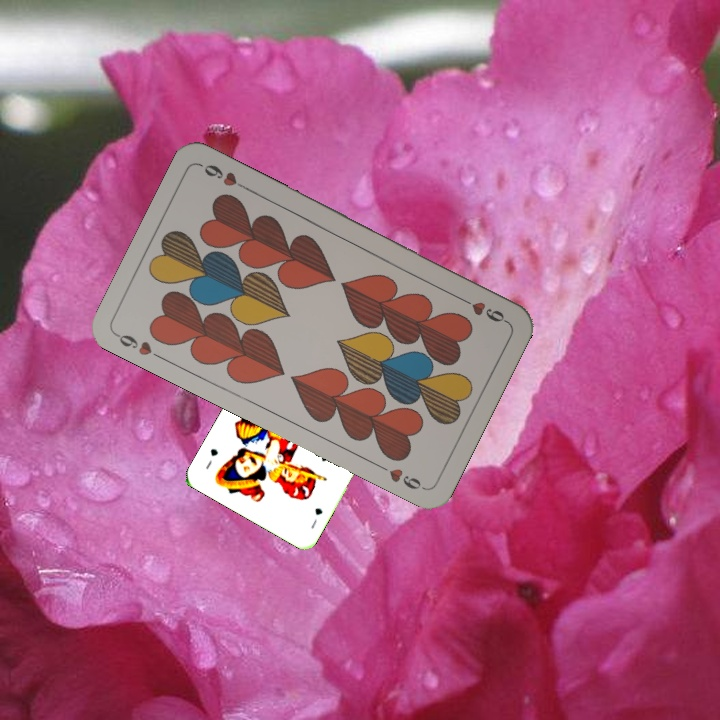GU: (306, 504, 325, 531)
H9: (455, 292, 510, 326), (112, 329, 167, 363)
